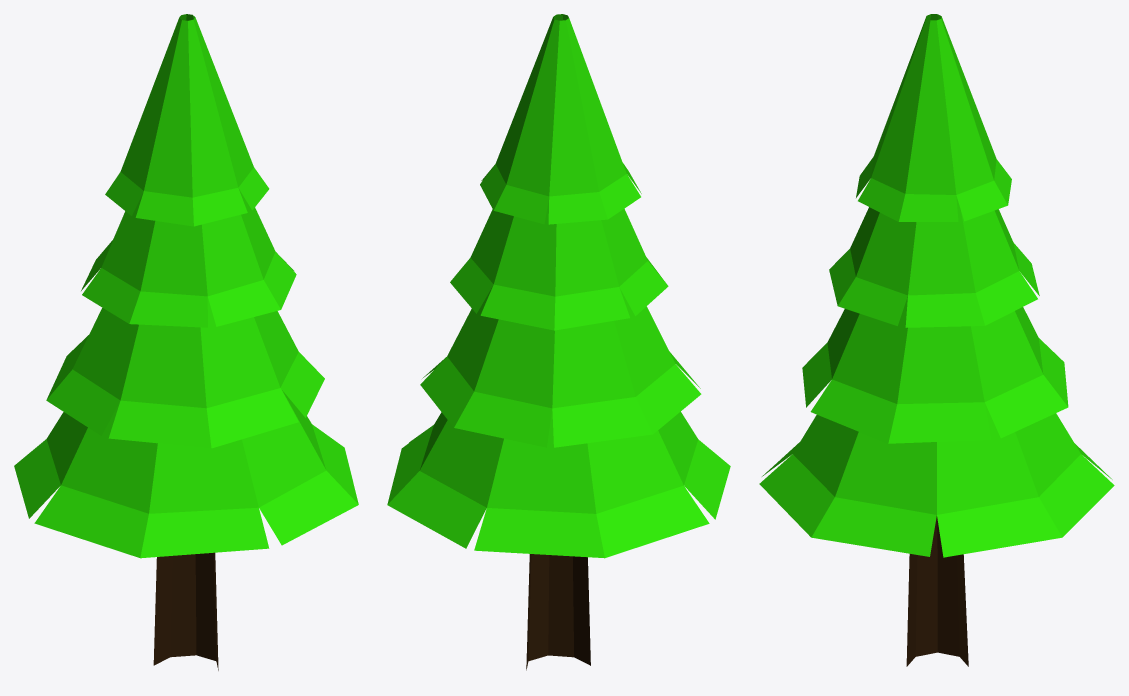
The model's file is tree.fbx.
3 views of the same model, side by side, from view 1: azimuth 30°, elevation 25°; view 2: azimuth 150°, elevation 25°; view 3: azimuth 270°, elevation 25° (orthographic).
Visible parts, largest first — view 1: Tree; view 2: Tree; view 3: Tree.
Part boxes in pixels (<box>): Tree: <box>14,14,358,670</box>; Tree: <box>387,14,730,670</box>; Tree: <box>759,14,1114,666</box>.
Bounding box in the file's own units: 109 × 220 × 109.
